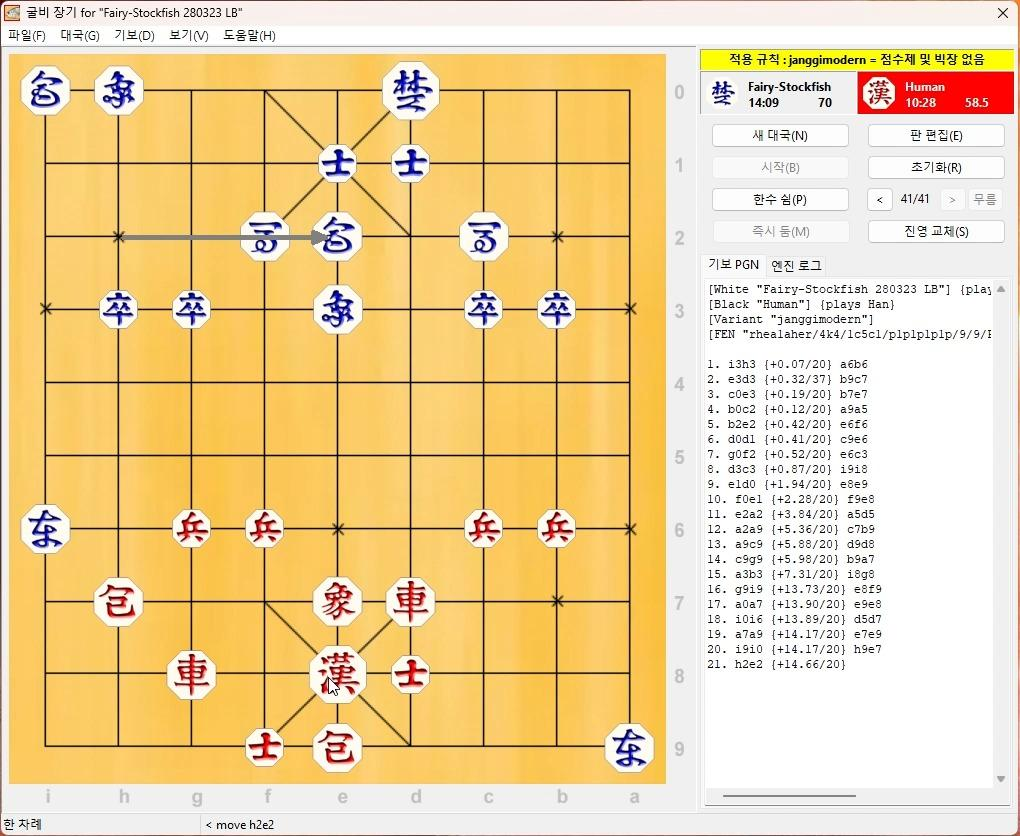cha_green: (21, 504, 70, 553), (606, 723, 654, 771)
cha_red: (167, 653, 216, 699), (387, 579, 436, 624)
jol_green: (539, 290, 578, 326), (171, 292, 210, 328), (466, 293, 504, 329), (98, 293, 136, 328)
jol_red: (537, 508, 575, 551), (463, 509, 502, 550), (171, 511, 210, 550), (243, 512, 283, 548)
ma_green: (240, 217, 289, 263), (459, 214, 507, 260)
po_green: (314, 214, 362, 260), (21, 70, 69, 114)
po_red: (315, 725, 363, 771), (95, 577, 144, 621)
sa_green: (391, 148, 431, 183), (319, 150, 359, 184)
sa_red: (245, 729, 285, 767), (392, 657, 431, 692)
sang_green: (314, 285, 363, 333), (96, 68, 145, 115)
sang_red: (314, 579, 362, 624)
wang_green: (382, 63, 439, 118)
wang_red: (309, 646, 368, 702)
